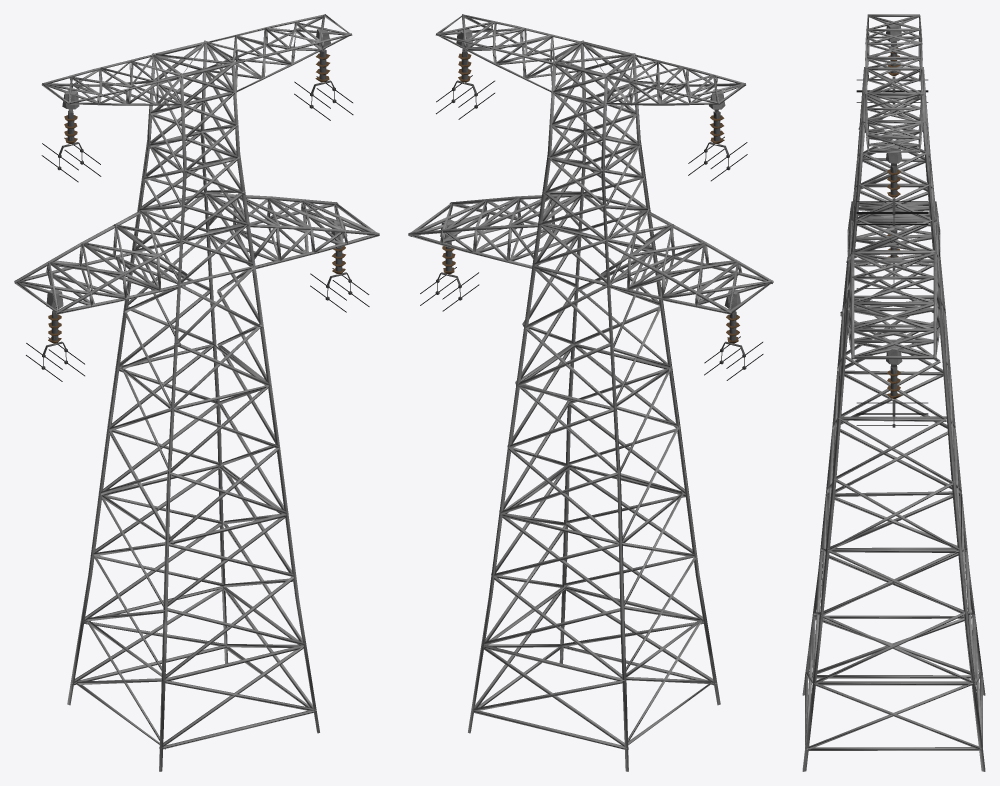
The model's file is powerline.glb.
3 renders of one model, left to right at view 1: azimuth 30°, elevation 25°; view 2: azimuth 150°, elevation 25°; view 3: azimuth 270°, elevation 25°, orthographic.
Parts seen in each view (by area): view 1: Pylon; view 2: Pylon; view 3: Pylon.
Part boxes in pixels (x1,y1,x2,y2): Pylon: (14,14,379,771); Pylon: (408,14,773,771); Pylon: (802,14,985,771).
Bounding box in the file's own units: 10.35 × 20.25 × 5.14.
6 materials, 6 textured.
